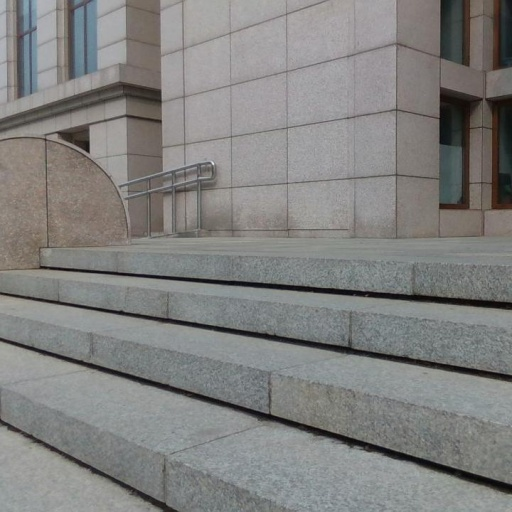Stairs: (0, 238, 512, 512)
